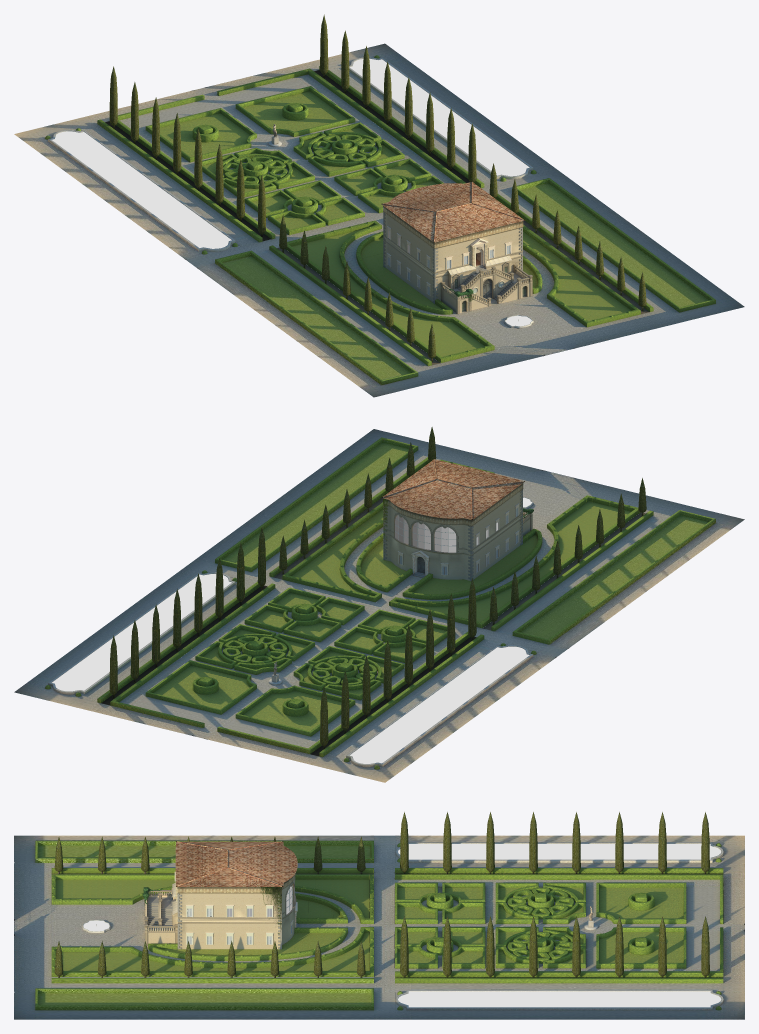
The model's file is villa.glb.
3 views of the same model, one above another, from view 1: azimuth 30°, elevation 25°; view 2: azimuth 150°, elevation 25°; view 3: azimuth 270°, elevation 25° (orthographic).
Parts seen in each view (by area): view 1: Path, Rear gardens, Filler side gardens, Side ponds, Front outer left garden, Large conifers, Villa outer hedge right, Outside walls, Roof, Small conifers, Stairs, Villa inner garden left (+1 smaller); view 2: Path, Rear gardens, Filler side gardens, Side ponds, Front outer left garden, Large conifers, Outside walls, Roof, Villa outer hedge right, Small conifers, Villa inner garden left, Villa inner hedge right (+2 smaller); view 3: Path, Rear gardens, Side ponds, Filler side gardens, Villa outer hedge right, Large conifers, Front outer left garden, Outside walls, Roof, Small conifers, Villa inner hedge right, Stairs (+3 smaller).
Boxes of the visible parts, <box> form: Path: <box>14,43,744,397</box>; Rear gardens: <box>97,66,484,242</box>; Filler side gardens: <box>215,178,715,385</box>; Side ponds: <box>43,55,538,255</box>; Front outer left garden: <box>269,220,494,365</box>; Large conifers: <box>109,14,476,237</box>; Villa outer hedge right: <box>495,194,653,327</box>; Outside walls: <box>383,205,523,301</box>; Roof: <box>381,181,524,242</box>; Small conifers: <box>279,163,646,362</box>; Stairs: <box>441,255,532,314</box>; Villa inner garden left: <box>356,231,452,314</box>; Path: <box>14,429,744,782</box>; Rear gardens: <box>97,581,484,757</box>; Filler side gardens: <box>215,437,715,644</box>; Side ponds: <box>43,570,538,770</box>; Front outer left garden: <box>389,495,653,631</box>; Large conifers: <box>109,527,476,749</box>; Outside walls: <box>383,483,523,580</box>; Roof: <box>381,459,524,519</box>; Villa outer hedge right: <box>269,457,494,601</box>; Small conifers: <box>279,427,646,625</box>; Villa inner garden left: <box>402,528,542,599</box>; Villa inner hedge right: <box>356,533,412,592</box>; Path: <box>14,835,744,1019</box>; Rear gardens: <box>395,868,723,983</box>; Side ponds: <box>395,842,723,1010</box>; Filler side gardens: <box>35,840,373,1010</box>; Villa outer hedge right: <box>51,927,373,983</box>; Large conifers: <box>400,812,709,977</box>; Front outer left garden: <box>51,868,373,923</box>; Outside walls: <box>177,873,296,949</box>; Roof: <box>175,841,297,886</box>; Small conifers: <box>54,836,365,977</box>; Villa inner hedge right: <box>148,927,347,960</box>; Stairs: <box>144,883,177,945</box>.
Size of the model in its own units: 53.96 by 9.47 by 90.64.
34 materials, 31 textured.
